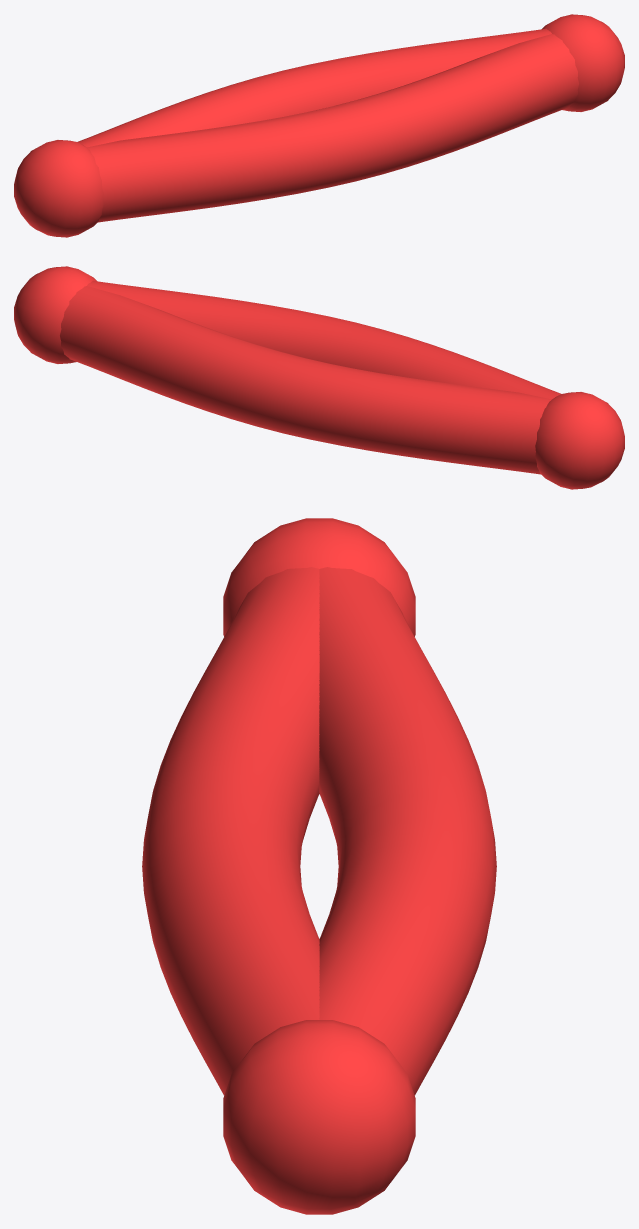
File: 08_O2_Stc.fbx
3 renders of one model, top to bottom at view 1: azimuth 30°, elevation 25°; view 2: azimuth 150°, elevation 25°; view 3: azimuth 270°, elevation 25°, orthographic. The views are drawn at different scales.
Visible parts, largest first — view 1: Bond.001.002_1.002, O.005, O.006; view 2: Bond.001.002_1.002, O.005, O.006; view 3: Bond.001.002_1.002, O.006, O.005.
Boxes of the visible parts, bbox=[...] form: Bond.001.002_1.002: bbox=[78, 28, 578, 222]; O.005: bbox=[14, 140, 103, 237]; O.006: bbox=[542, 14, 624, 111]; Bond.001.002_1.002: bbox=[60, 280, 560, 474]; O.005: bbox=[535, 392, 624, 489]; O.006: bbox=[14, 266, 96, 363]; Bond.001.002_1.002: bbox=[142, 567, 496, 1095]; O.006: bbox=[223, 1020, 415, 1214]; O.005: bbox=[223, 518, 415, 636].
Bounding box in the file's own units: 140 × 19.6 × 36.11.
